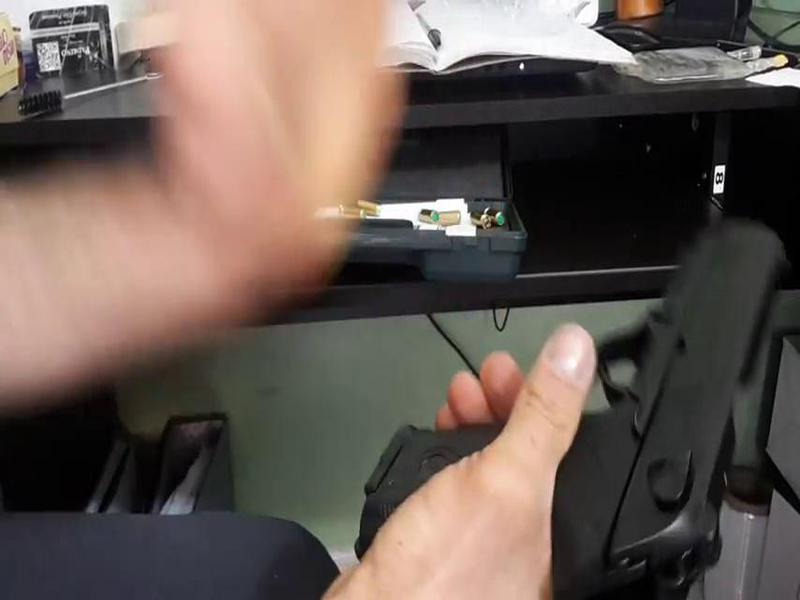Pistola: (371, 204, 787, 600)
